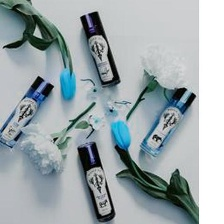bottle: (136, 85, 200, 158), (0, 73, 56, 153), (73, 137, 117, 223), (77, 8, 123, 90)
